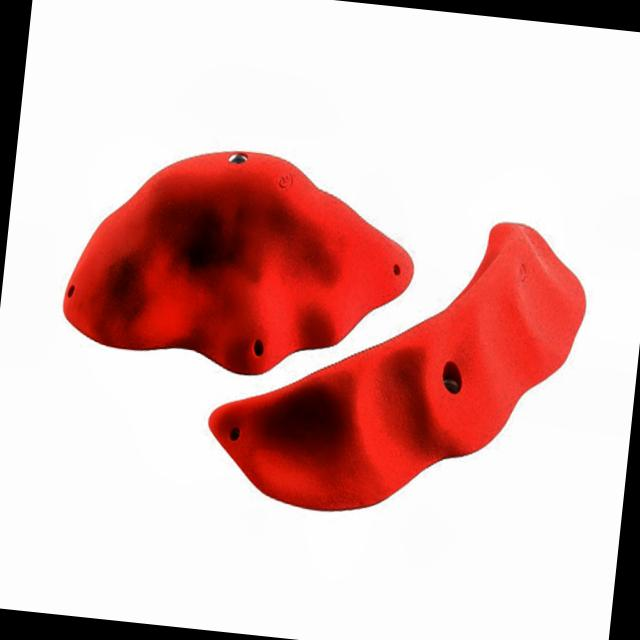Hold: (196, 214, 591, 531), (50, 142, 431, 385)
